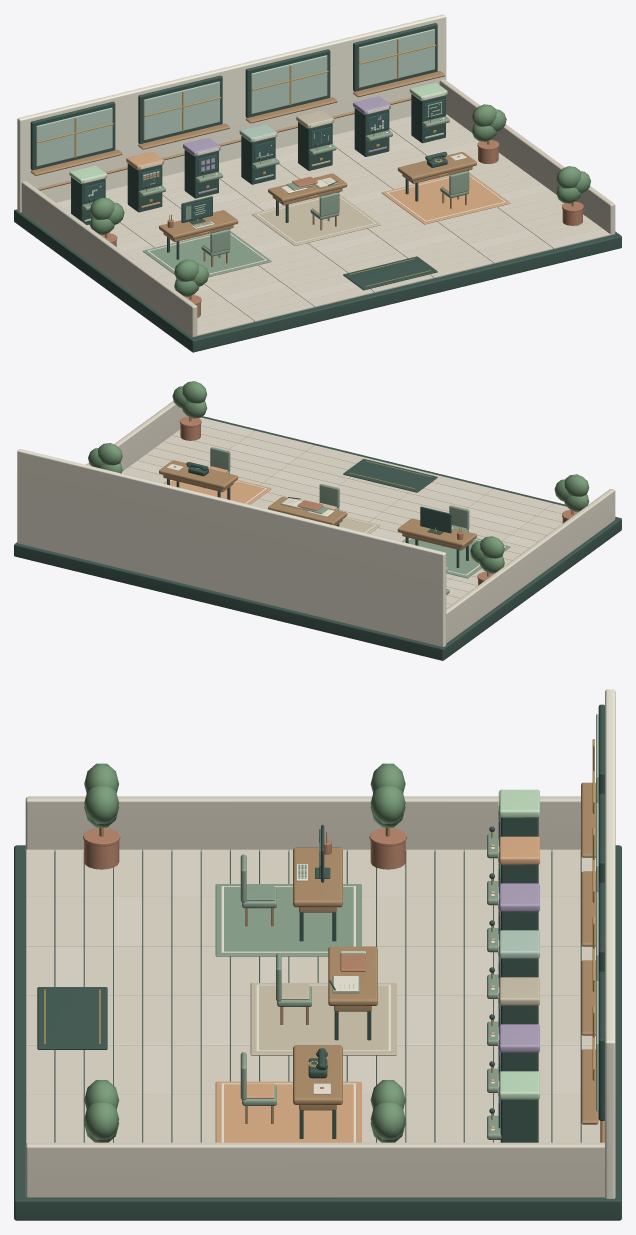
File: open-studio.glb
The picture shows the model from 3 angles, top to bottom: view 1: azimuth 30°, elevation 25°; view 2: azimuth 150°, elevation 25°; view 3: azimuth 270°, elevation 25°; orthographic projection. The views are drawn at different scales.
Parts seen in each view (by area): view 1: Back wall, Foundation, Left low wall, Right low wall, Woven rug.001, Woven rug.002, Window soft daylight.001, Window soft daylight, Window soft daylight.002, Window soft daylight.003, Woven rug, Entrance mat (+56 smaller); view 2: Back wall, Foundation, Left low wall, Right low wall, Entrance mat, Woven rug, Woven rug.002, Worktop.002, Worktop, Worktop.001, Projects monitor, Oak floor.124 (+35 smaller); view 3: Right low wall, Foundation, Left low wall, Woven rug, Woven rug.001, Woven rug.002, Back wall, Entrance mat, Worktop, Worktop.002, Worktop.001, Arcade cabinet 6 (+103 smaller).
Part boxes in pixels (box(x1,y1,x2,y2)): Back wall: box(17, 14, 446, 212); Foundation: box(14, 209, 621, 352); Left low wall: box(21, 181, 197, 336); Right low wall: box(439, 79, 615, 235); Woven rug.001: box(251, 194, 380, 245); Woven rug.002: box(381, 173, 510, 224); Window soft daylight.001: box(143, 81, 219, 140); Window soft daylight: box(36, 107, 112, 166); Window soft daylight.002: box(251, 55, 327, 113); Window soft daylight.003: box(358, 29, 434, 87); Woven rug: box(142, 231, 271, 277); Entrance mat: box(343, 256, 437, 290); Back wall: box(17, 449, 446, 646); Foundation: box(14, 416, 621, 660); Left low wall: box(446, 489, 615, 643); Right low wall: box(86, 401, 187, 471); Entrance mat: box(343, 459, 437, 492); Woven rug: box(402, 538, 510, 578); Woven rug.002: box(163, 479, 271, 504); Worktop.002: box(159, 460, 238, 489); Worktop: box(397, 518, 476, 547); Worktop.001: box(268, 497, 347, 525); Projects monitor: box(420, 506, 451, 533); Oak floor.124: box(229, 443, 296, 463); Right low wall: box(25, 1142, 604, 1197); Foundation: box(14, 845, 621, 1220); Left low wall: box(25, 796, 580, 851); Woven rug: box(215, 884, 361, 956); Woven rug.001: box(250, 983, 396, 1055); Woven rug.002: box(215, 1081, 361, 1142); Back wall: box(605, 689, 615, 1198); Entrance mat: box(37, 987, 107, 1049); Worktop: box(293, 847, 342, 907); Worktop.002: box(293, 1045, 342, 1104); Worktop.001: box(328, 946, 377, 1005); Arcade cabinet 6: box(500, 1099, 538, 1142).
Bounding box in the file's own units: 14.4 × 3.37 × 10.4.
